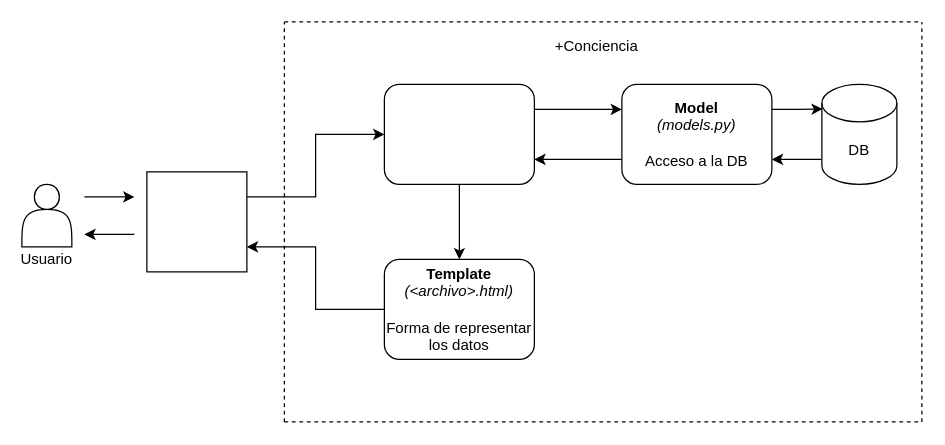
This 945x445 diagram has some shape labels left out. Each missing label, with the centre of its shape:
Navegador Web: point 196,221
View (views.py) Datos a representar: point 458,133
